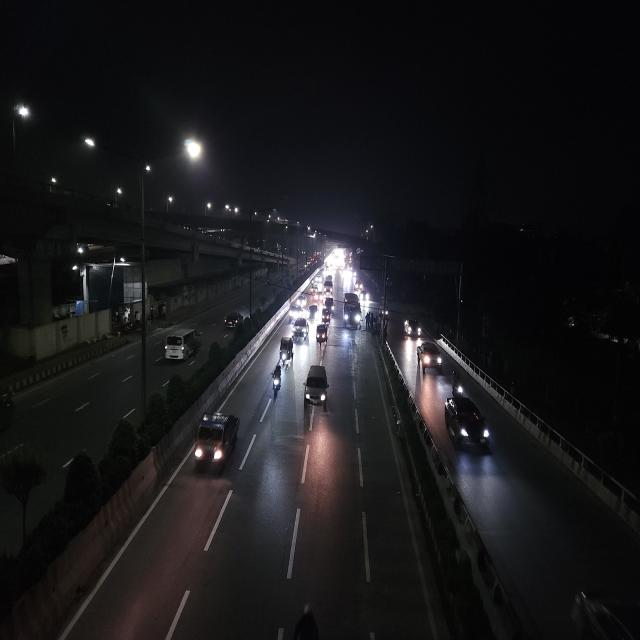bus: (342, 290, 362, 330)
car: (440, 392, 495, 457), (158, 324, 204, 365), (415, 340, 444, 372), (292, 316, 310, 341), (403, 317, 423, 339), (223, 310, 244, 330), (302, 289, 318, 304), (322, 276, 335, 293), (320, 307, 331, 324), (295, 297, 307, 311)
cng: (302, 362, 332, 413), (278, 335, 296, 366), (314, 321, 330, 349)
motorcycle: (268, 359, 285, 402), (450, 369, 466, 397)
pedestrian: (366, 312, 371, 330)
pickup_van: (190, 408, 240, 477)
